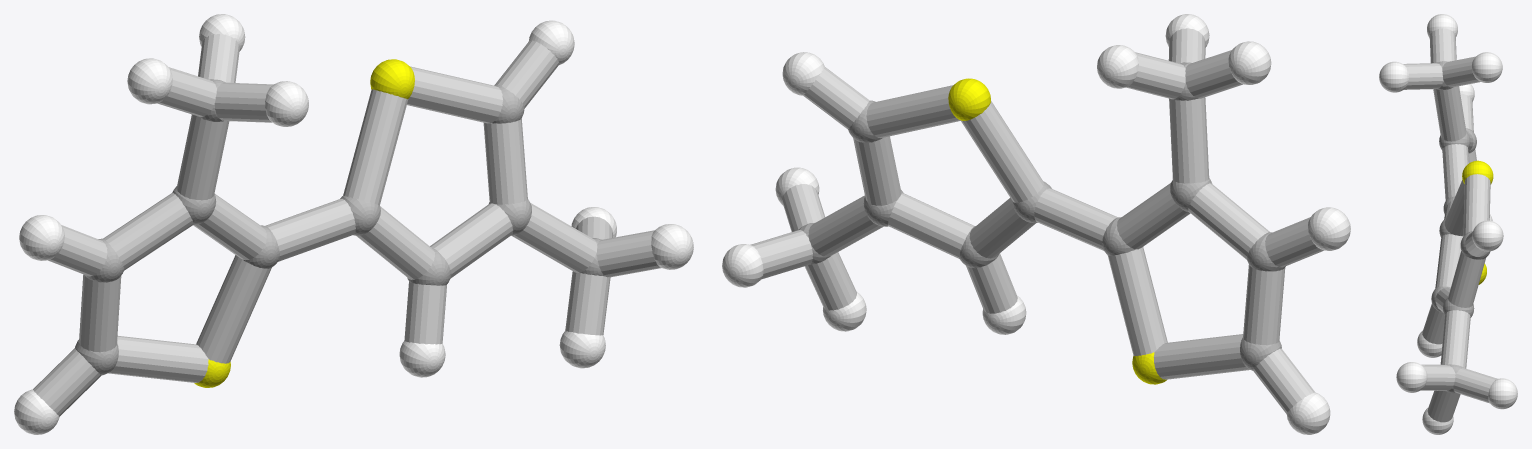
File: Methylthiophene_Phi_10_Theta_340_Methylthiophene.glb
3 views of the same model, side by side, from view 1: azimuth 30°, elevation 25°; view 2: azimuth 150°, elevation 25°; view 3: azimuth 270°, elevation 25° (orthographic). The views are drawn at different scales.
Parts seen in each view (by area): view 1: grp7965, grp3621, grp1, grp7241; view 2: grp7965, grp3621, grp1, grp7241; view 3: grp7965, grp3621, grp1, grp7241.
Boxes of the visible parts, x1=… form: grp7965: x1=33, y1=34, x2=660, y2=416; grp3621: x1=14, y1=14, x2=693, y2=434; grp1: x1=75, y1=79, x2=604, y2=375; grp7241: x1=194, y1=59, x2=414, y2=387; grp7965: x1=750, y1=28, x2=1323, y2=413; grp3621: x1=722, y1=14, x2=1350, y2=434; grp1: x1=798, y1=62, x2=1285, y2=370; grp7241: x1=948, y1=78, x2=1166, y2=384; grp7965: x1=1403, y1=28, x2=1497, y2=422; grp3621: x1=1379, y1=14, x2=1517, y2=434; grp1: x1=1431, y1=61, x2=1490, y2=393; grp7241: x1=1462, y1=160, x2=1493, y2=284.
Size of the model in its own units: 9.5 by 5.85 by 2.66.
